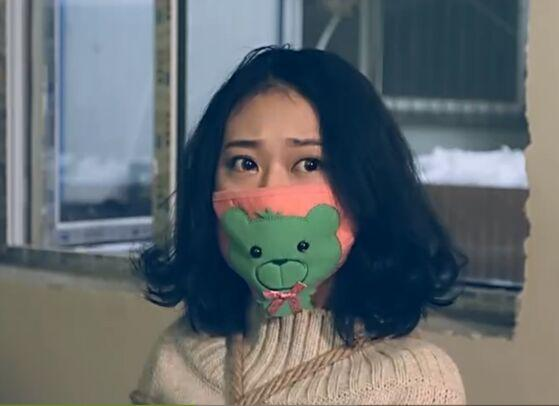OK: (212, 137, 355, 297)
